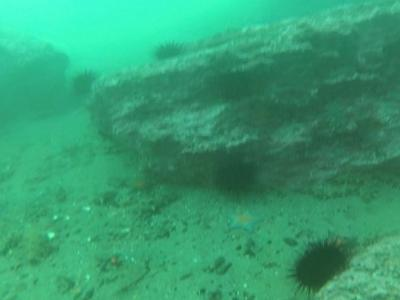urchin: (288, 237, 349, 293), (216, 155, 254, 196), (73, 70, 95, 93), (156, 42, 185, 57)
